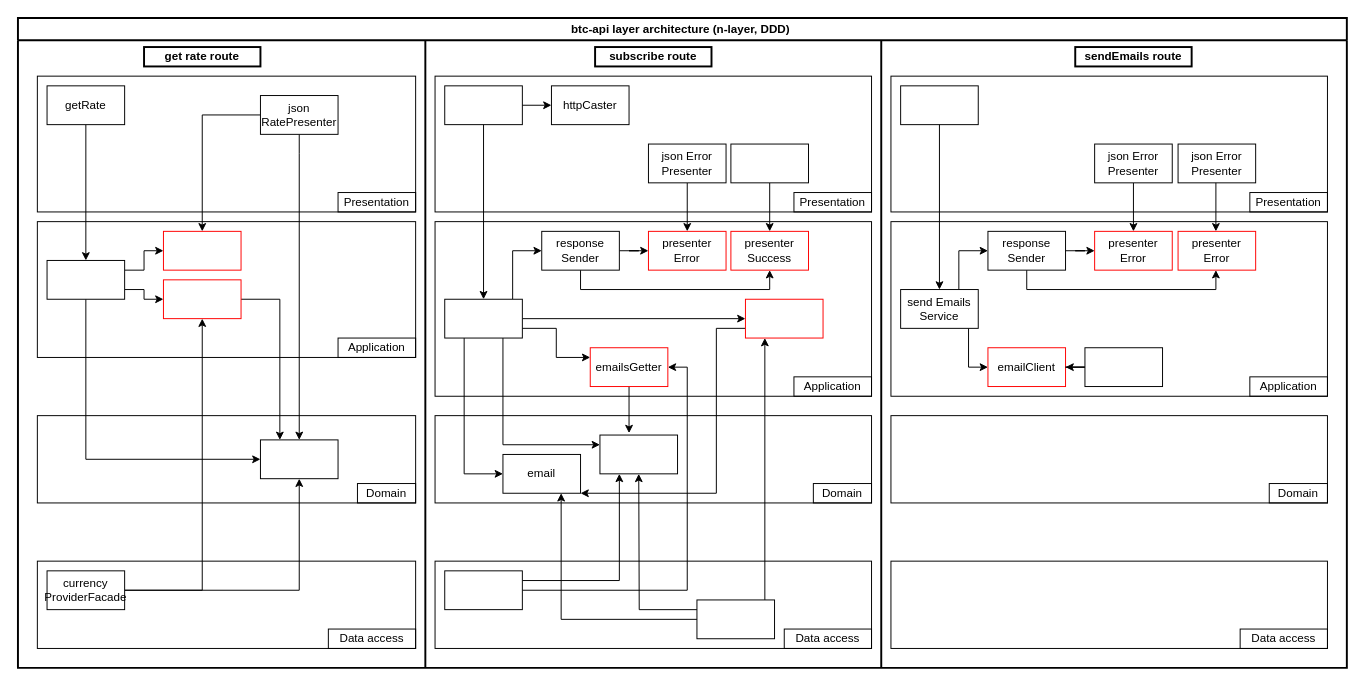
Image size: 1364x686. Some labels were removed from this diagram. The shapes that lost their labels are listed below. From the top down, each one's centre as x and y in pixels, then its label:
At (483,105): "subscribe".
At (939,105): "send Emails".
At (769,163): "json Success Presenter".
At (201,250): "presenterRate".
At (85,279): "rateService".
At (201,299): "currencyGetter".
At (483,318): "subscribe Service".
At (783,318): "emails Appender".
At (1123,367): "smtpClient".
At (298,459): "rate".
At (638,454): "emails".
At (483,590): "emails JsonReader".
At (735,619): "emails JsonAppender".
